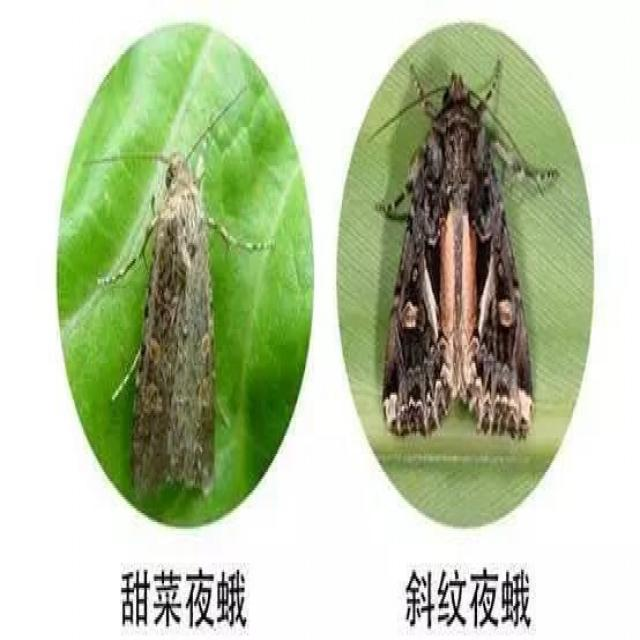BeetArmyWorm-Adult-: (376, 61, 563, 460), (128, 111, 230, 499)
